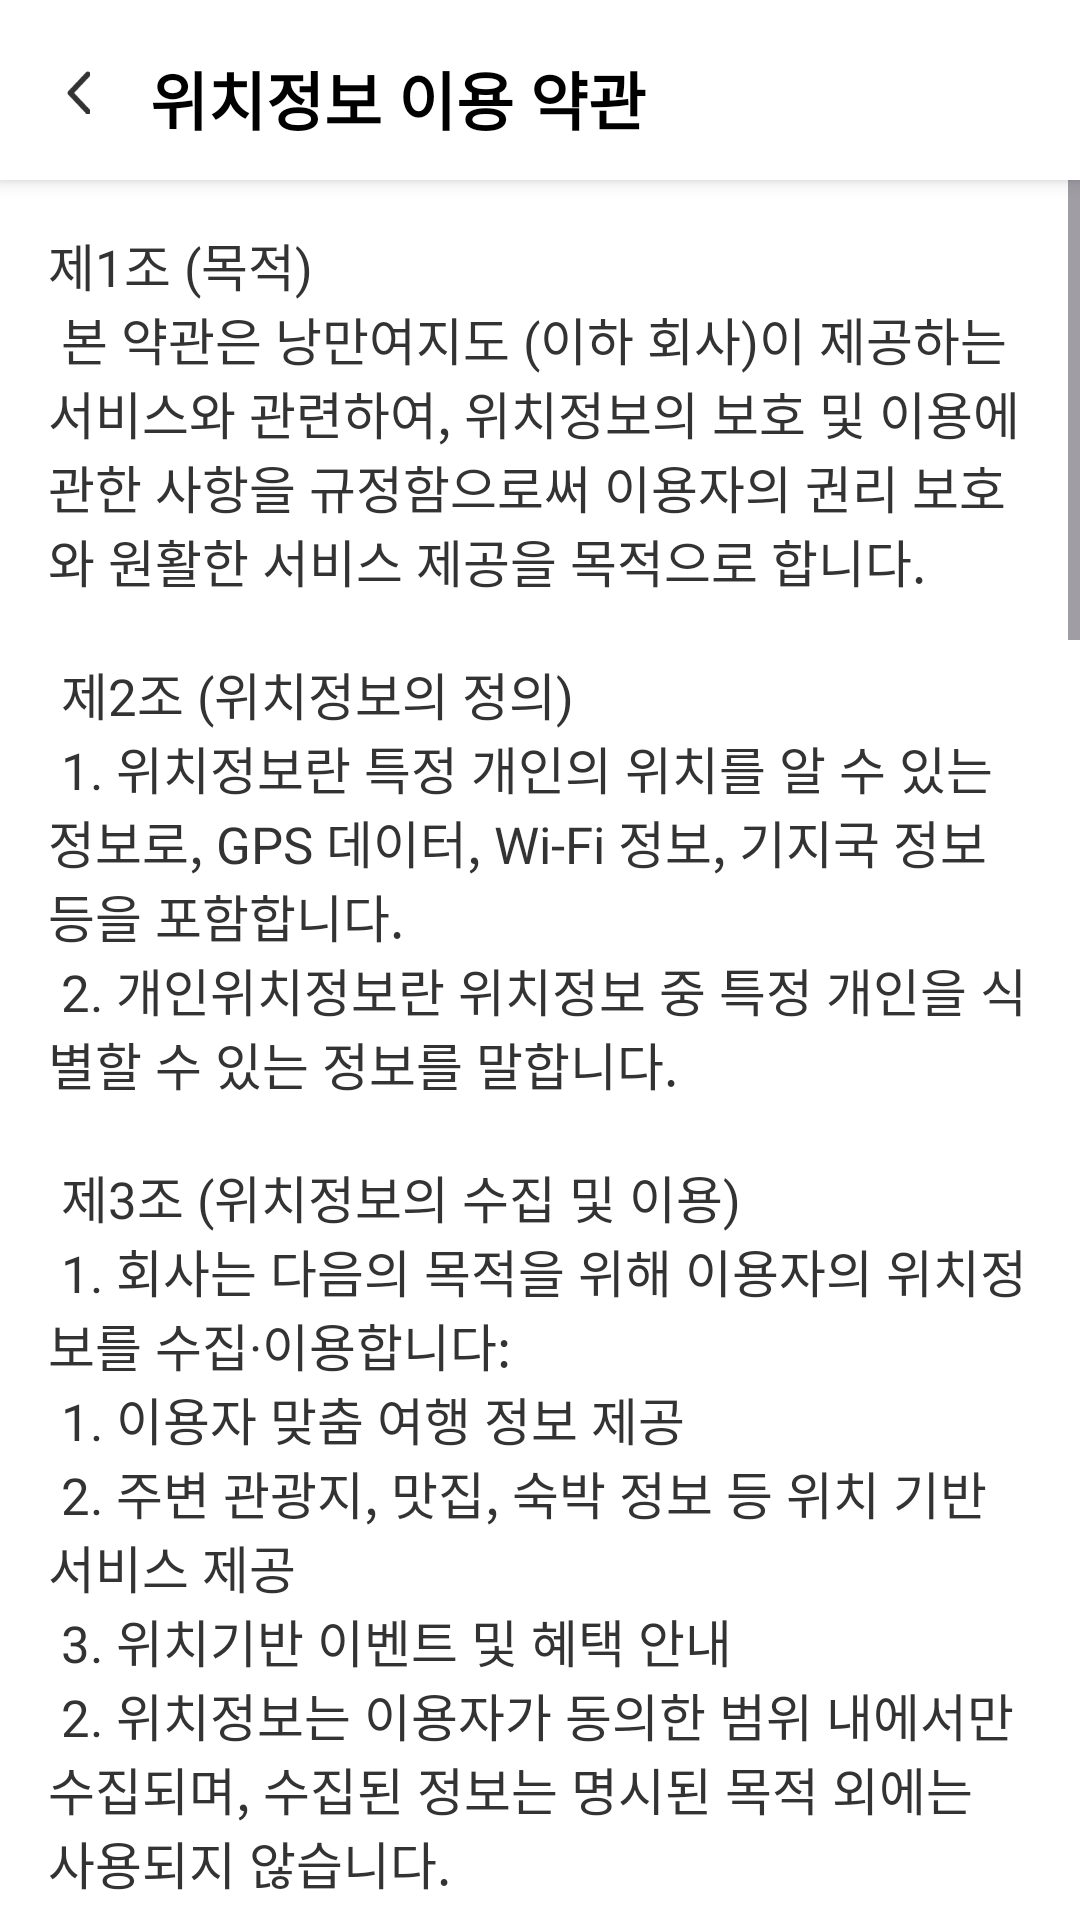

Where icons sit on this 1080×1920 app screen, as {"left": x1, "top": y1, "right": x2, "bottom": y2}:
back: {"left": 67, "top": 71, "right": 90, "bottom": 114}
